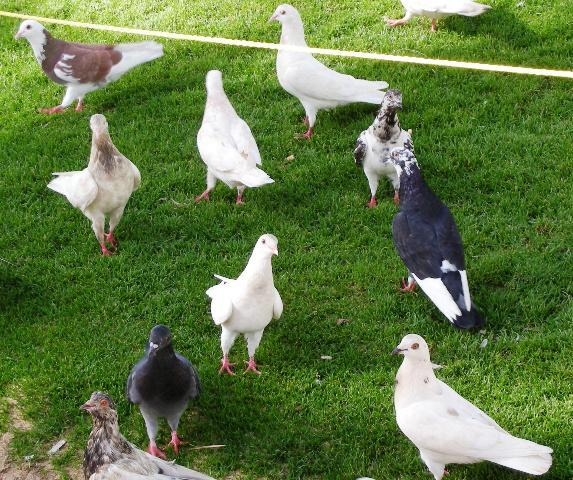Flying Rat: (384, 332, 566, 480), (386, 147, 504, 335), (266, 8, 371, 149), (15, 18, 166, 112), (49, 114, 143, 252), (118, 323, 215, 447), (69, 393, 204, 480), (189, 64, 266, 215), (213, 231, 293, 369), (353, 92, 432, 203), (379, 1, 487, 52)
